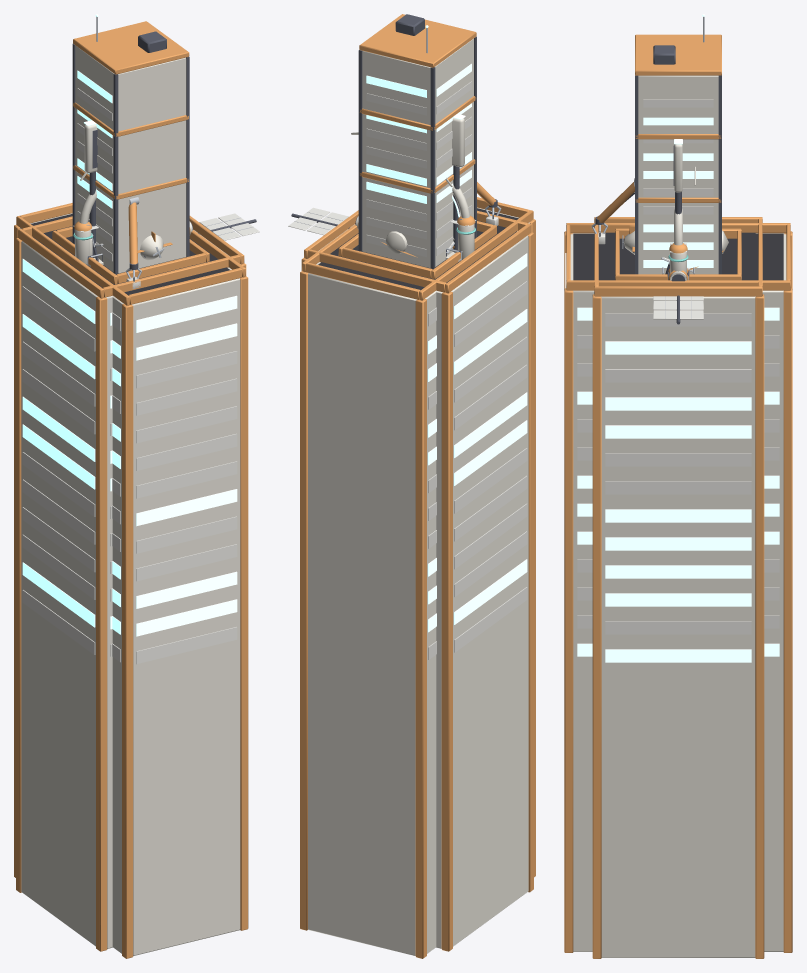
File: kit.glb
The picture shows the model from 3 angles, left to right: view 1: azimuth 30°, elevation 25°; view 2: azimuth 150°, elevation 25°; view 3: azimuth 270°, elevation 25°; orthographic projection.
Visible parts, largest first — view 1: env_block_1__shell, env_block_0__shell, env_block_1__trim, env_block_0__trim, env_block_1__label, env_tower_2__shell, env_block_0__label, env_block_1__glow, env_tower_1__shell, env_block_0__glow, env_tower_0__shell, env_tower_2__trim (+12 smaller); view 2: env_block_1__shell, env_block_0__shell, env_block_1__trim, env_block_0__trim, env_block_0__label, env_tower_2__shell, env_block_0__glow, env_tower_1__shell, env_tower_0__shell, env_tower_2__trim, env_tower_0__label, env_tower_2__dark (+15 smaller); view 3: env_block_0__shell, env_block_1__shell, env_block_1__trim, env_block_0__glow, env_block_0__trim, env_block_0__label, env_tower_2__shell, env_block_1__rubber, env_tower_1__shell, env_tower_2__trim, env_tower_0__shell, env_block_1__label (+12 smaller).
Boxes of the visible parts, box(x1,y1,x2,y2) form: env_block_1__shell: box(20, 213, 240, 955); env_block_0__shell: box(21, 241, 229, 948); env_block_1__trim: box(14, 203, 248, 958); env_block_0__trim: box(16, 216, 246, 951); env_block_1__label: box(112, 312, 237, 664); env_tower_2__shell: box(75, 45, 186, 271); env_block_0__label: box(22, 286, 112, 656); env_block_1__glow: box(112, 295, 237, 636); env_tower_1__shell: box(75, 108, 186, 272); env_block_0__glow: box(22, 259, 112, 629); env_tower_0__shell: box(75, 171, 186, 272); env_tower_2__trim: box(73, 21, 189, 74); env_block_1__shell: box(308, 207, 529, 955); env_block_0__shell: box(318, 231, 528, 948); env_block_1__trim: box(300, 197, 535, 958); env_block_0__trim: box(301, 210, 533, 951); env_block_0__label: box(454, 281, 527, 652); env_tower_2__shell: box(362, 38, 473, 266); env_block_0__glow: box(454, 253, 527, 624); env_tower_1__shell: box(362, 102, 473, 266); env_tower_0__shell: box(362, 165, 473, 267); env_tower_2__trim: box(359, 14, 476, 67); env_tower_0__label: box(366, 187, 471, 256); env_tower_2__dark: box(358, 14, 476, 268); env_block_0__shell: box(601, 296, 755, 957); env_block_1__shell: box(570, 233, 786, 951); env_block_1__trim: box(564, 223, 792, 952); env_block_0__glow: box(605, 341, 751, 662); env_block_0__trim: box(592, 217, 764, 958); env_block_0__label: box(605, 313, 751, 634); env_tower_2__shell: box(638, 75, 718, 273); env_block_1__rubber: box(573, 233, 783, 280); env_tower_1__shell: box(638, 140, 718, 273); env_tower_2__trim: box(635, 34, 721, 75); env_tower_0__shell: box(638, 203, 718, 274); env_block_1__label: box(577, 335, 779, 628).
Bounding box in the file's own units: 8.26 × 35.3 × 8.12.
